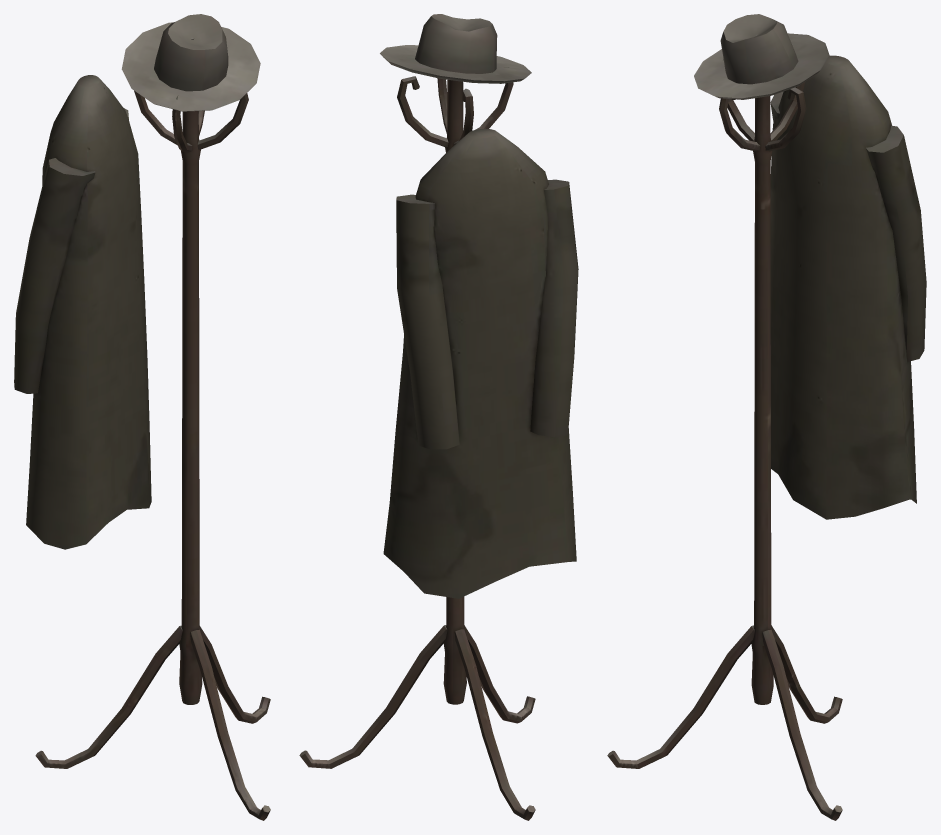
File: dressing_coat_rack.glb
The picture shows the model from 3 angles, left to right: view 1: azimuth 30°, elevation 25°; view 2: azimuth 150°, elevation 25°; view 3: azimuth 270°, elevation 25°; orthographic projection.
Visible parts, largest first — view 1: dressing_coat_rack; view 2: dressing_coat_rack; view 3: dressing_coat_rack.
Part boxes in pixels (box(x1,y1,x2,y2)): dressing_coat_rack: box(14, 14, 270, 820); dressing_coat_rack: box(299, 14, 578, 820); dressing_coat_rack: box(607, 14, 926, 820).
Size of the model in its own units: 0.705 by 1.92 by 0.7414.
1 material, 1 textured.
